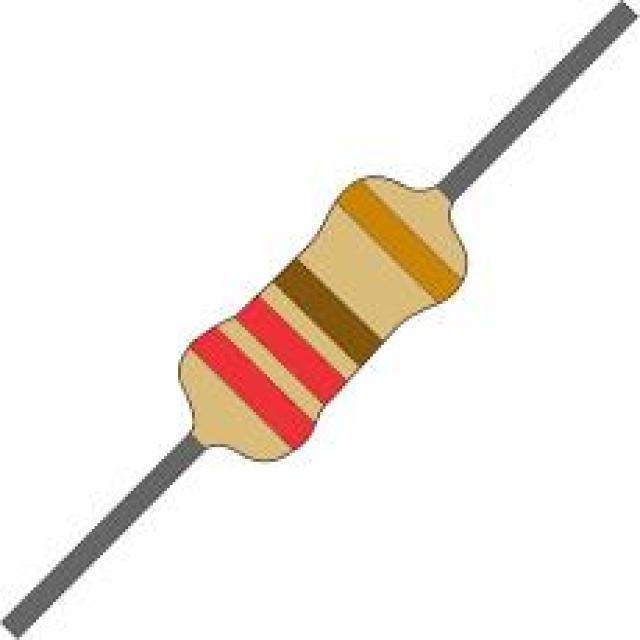Capacitor Electrolitico: (132, 153, 483, 513)
